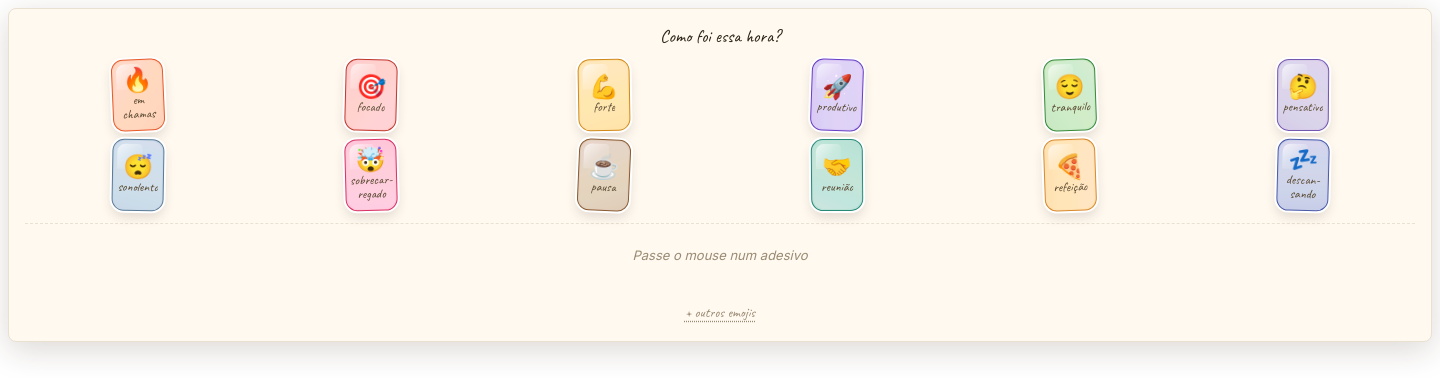
Test case: EnergyPalette — descriptions › hover em sticker mostra a description correspondente
The width and height of the screenshot is (1440, 378).
Hover over the menu item "🔥 em chamas" at {"x": 138, "y": 95}, box x1=110 y1=58 x2=165 y2=132
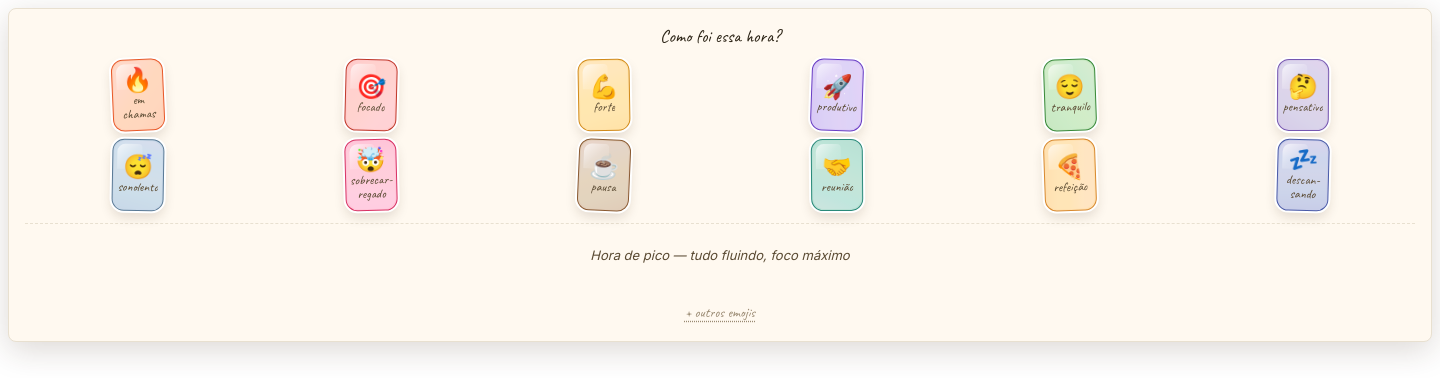
Result: the text "Hora de pico — tudo fluindo, foco máximo" is shown at x1=590 y1=247 x2=850 y2=265
